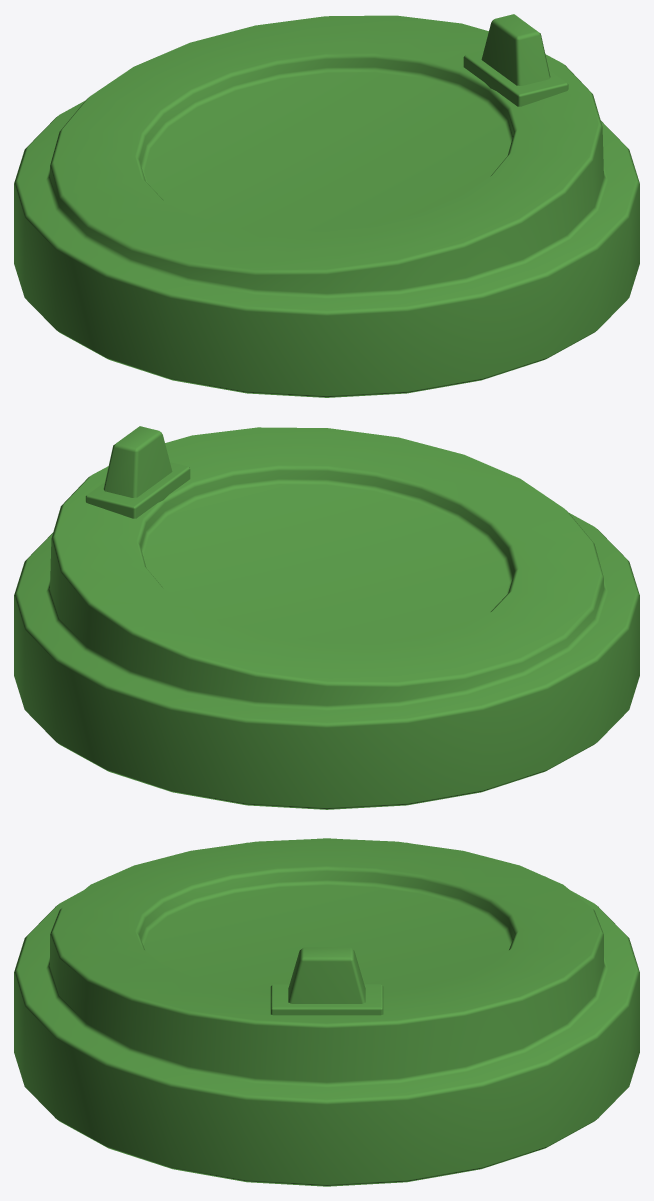
Rendered from Coffee_Lid.fbx.
3 renders of one model, top to bottom at view 1: azimuth 30°, elevation 25°; view 2: azimuth 150°, elevation 25°; view 3: azimuth 270°, elevation 25°, orthographic.
Visible parts, largest first — view 1: Coffee_Lid; view 2: Coffee_Lid; view 3: Coffee_Lid.
Part boxes in pixels (x1=…): Coffee_Lid: x1=14, y1=14, x2=639, y2=397; Coffee_Lid: x1=14, y1=426, x2=639, y2=809; Coffee_Lid: x1=14, y1=838, x2=639, y2=1186.
Bounding box in the file's own units: 13.44 × 4.65 × 13.44.
